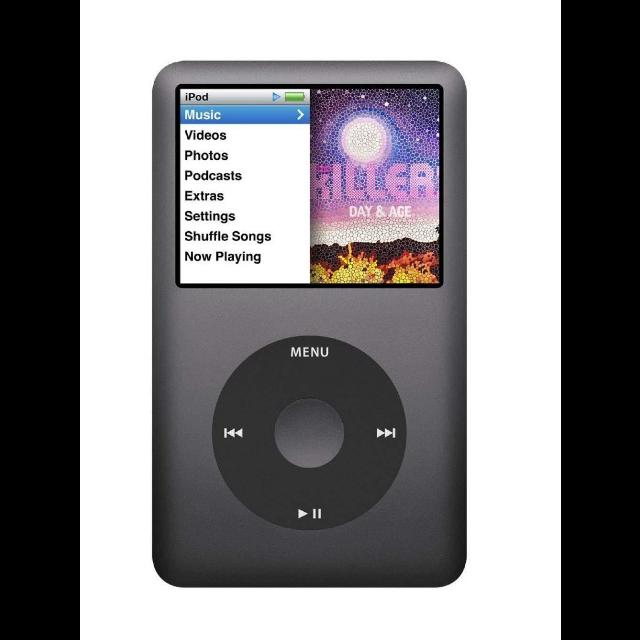Music-Player: (142, 50, 476, 604)
